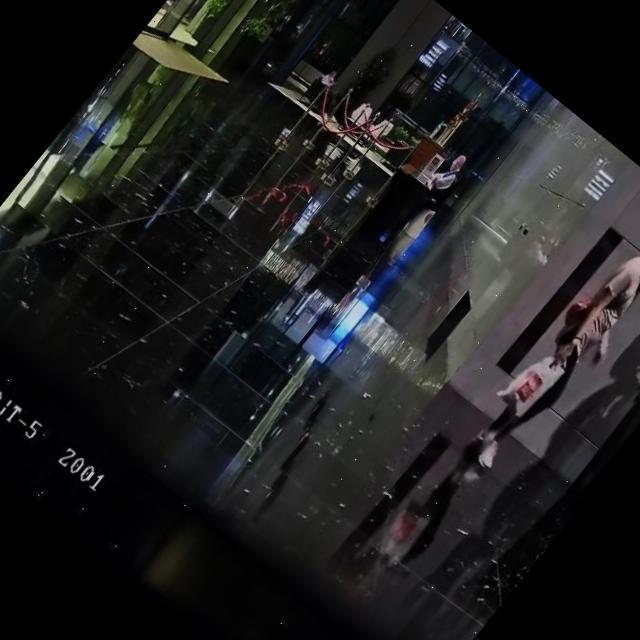person: (457, 204, 640, 484), (395, 148, 474, 238), (304, 64, 364, 126)
